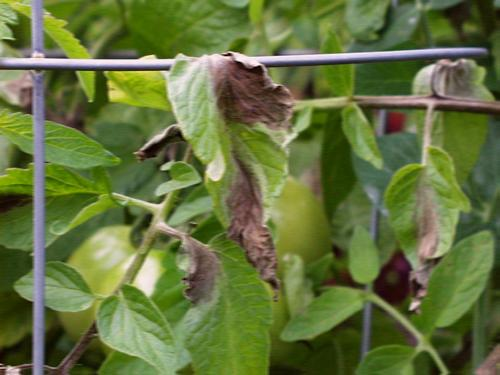Tomato leaf late blight: (161, 53, 297, 301), (161, 227, 295, 375), (371, 148, 479, 319)
